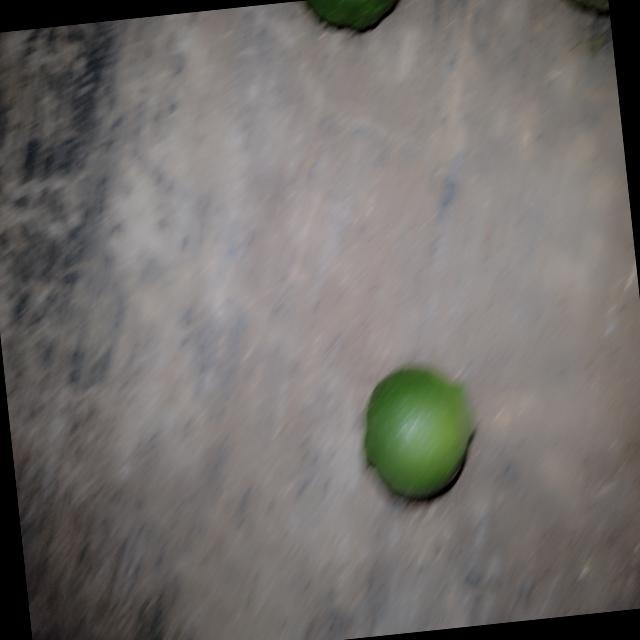agrume: (346, 348, 484, 524)
